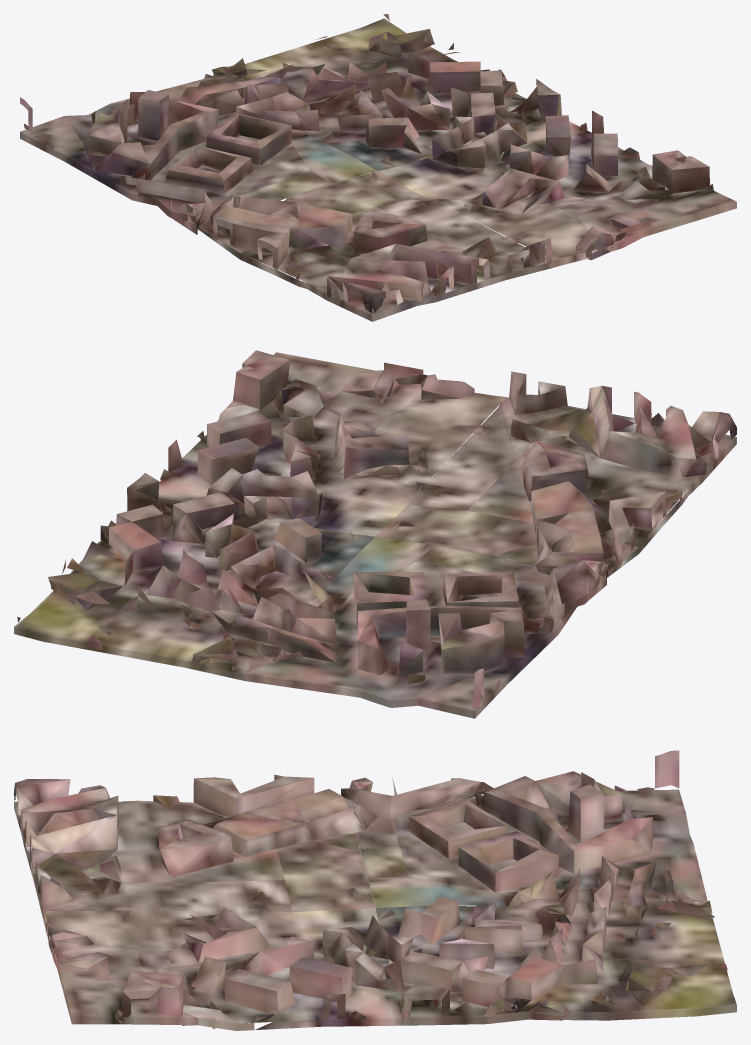
3 renders of one model, top to bottom at view 1: azimuth 30°, elevation 25°; view 2: azimuth 150°, elevation 25°; view 3: azimuth 270°, elevation 25°, orthographic. The views are drawn at different scales.
Parts seen in each view (by area): view 1: Mesh_0; view 2: Mesh_0; view 3: Mesh_0.
Part boxes in pixels (bbox=[...]): Mesh_0: bbox=[20, 14, 736, 321]; Mesh_0: bbox=[14, 350, 736, 718]; Mesh_0: bbox=[14, 750, 736, 1030].
Size of the model in its own units: 540 by 61.78 by 659.
2 materials, 2 textured.
